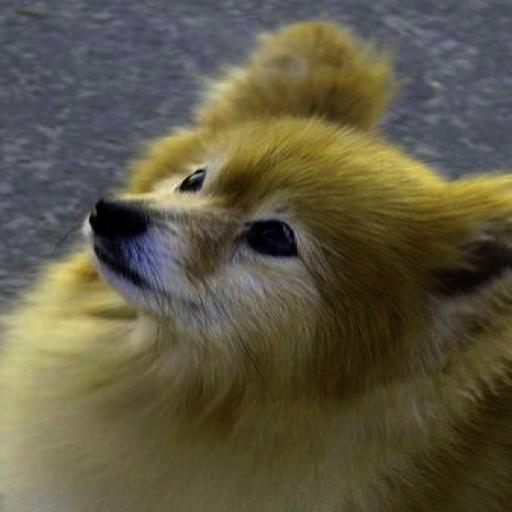dog_face: (83, 51, 512, 328)
